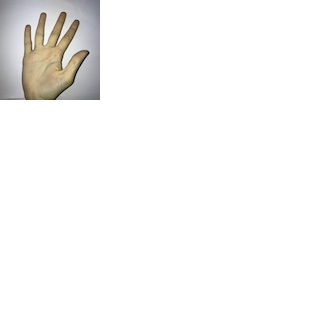paper: (19, 6, 88, 98)
